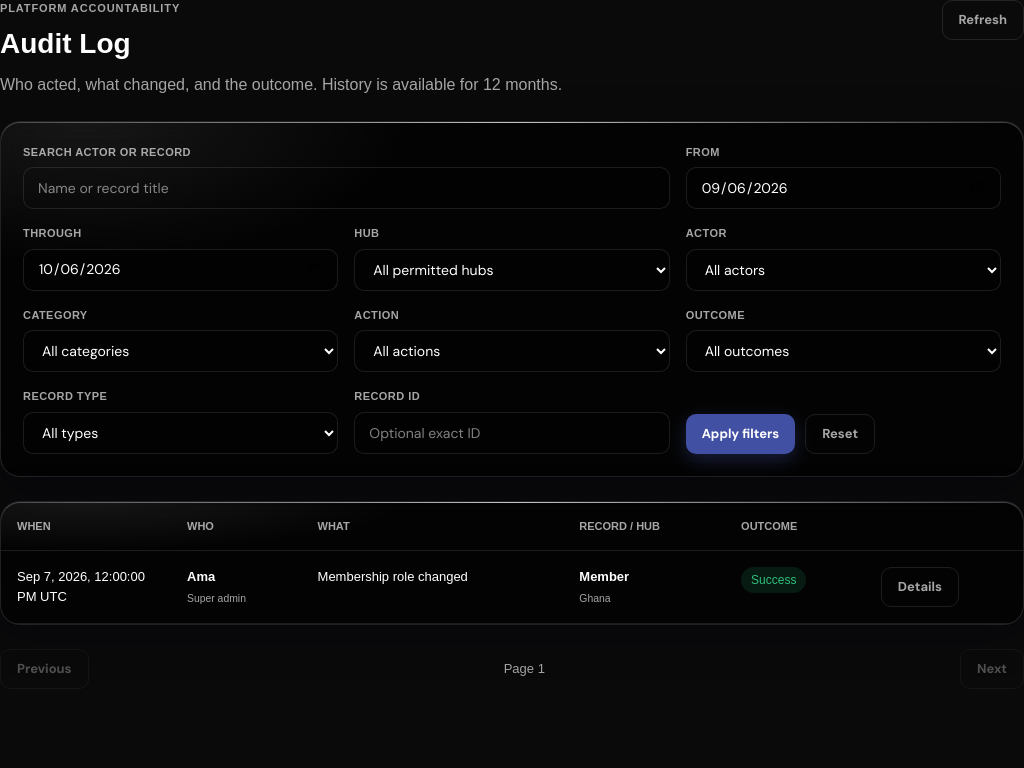
audit interface › shows safe changes and unavailable metadata in accessible event details
The image size is (1024, 768).
Click the button with aria-label "View Membership role changed details" at (920, 587), box top-left (881, 567), bottom-right (959, 607)
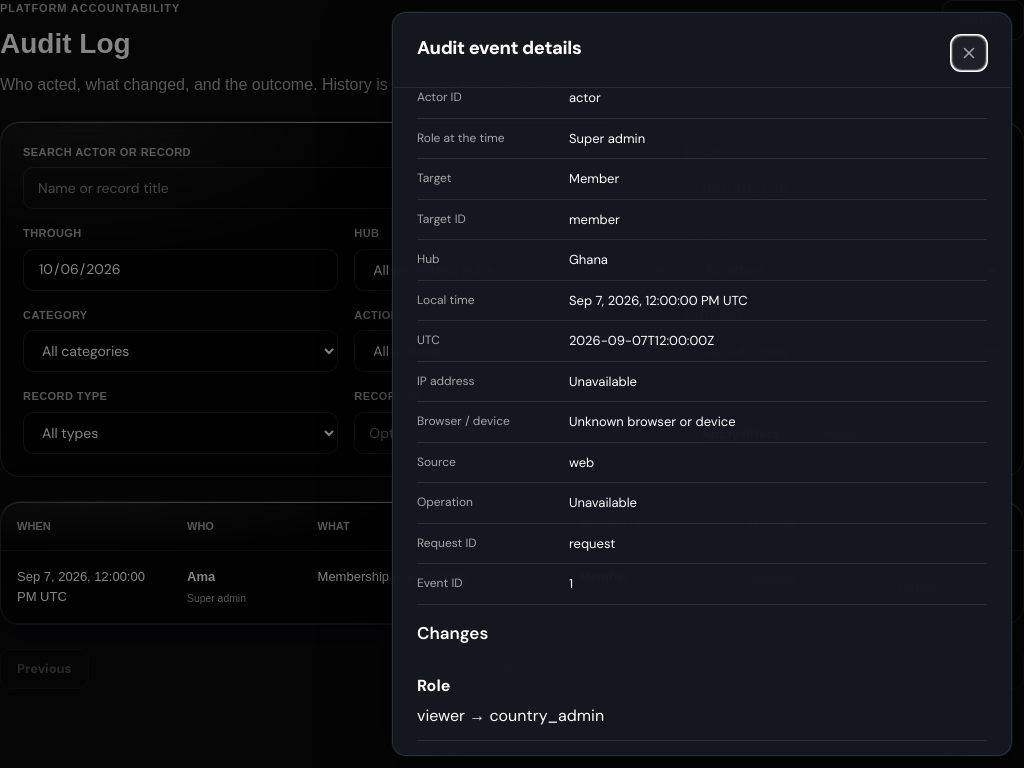
Now the dialog is shown
Now the text "viewer" is shown, box top-left (417, 705), bottom-right (465, 726)
Now the text "Unknown browser or device" is shown, box top-left (569, 413), bottom-right (736, 430)
